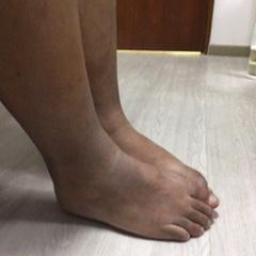Lateral View -Right Foot-: (19, 128, 225, 245)
